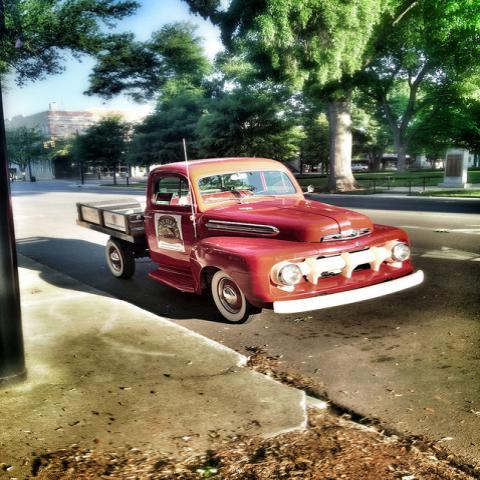truck: (74, 157, 426, 323)
